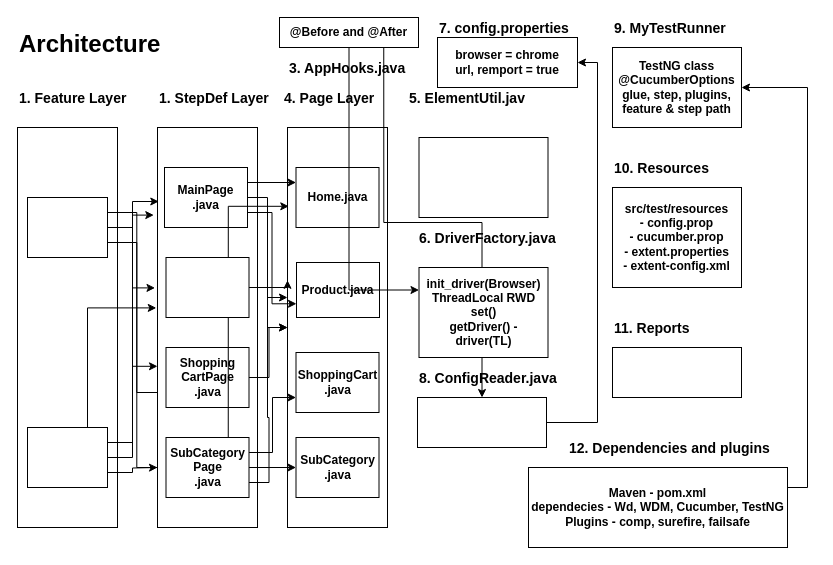
The diagram is 833 pixels wide and 565 high, and some of its shapes have lost their labels. Each missing label, with the centre of its shape:
boxesdisplay .feature: (x=67, y=227)
doClick() doSendKeys() getElement(By) wait(): (x=483, y=177)
extentreport - cucumber: (x=677, y=372)
init_prop(path) - return prop: (x=481, y=422)
ProductPage .java: (x=207, y=287)
shoppingcart .feature: (x=67, y=457)
